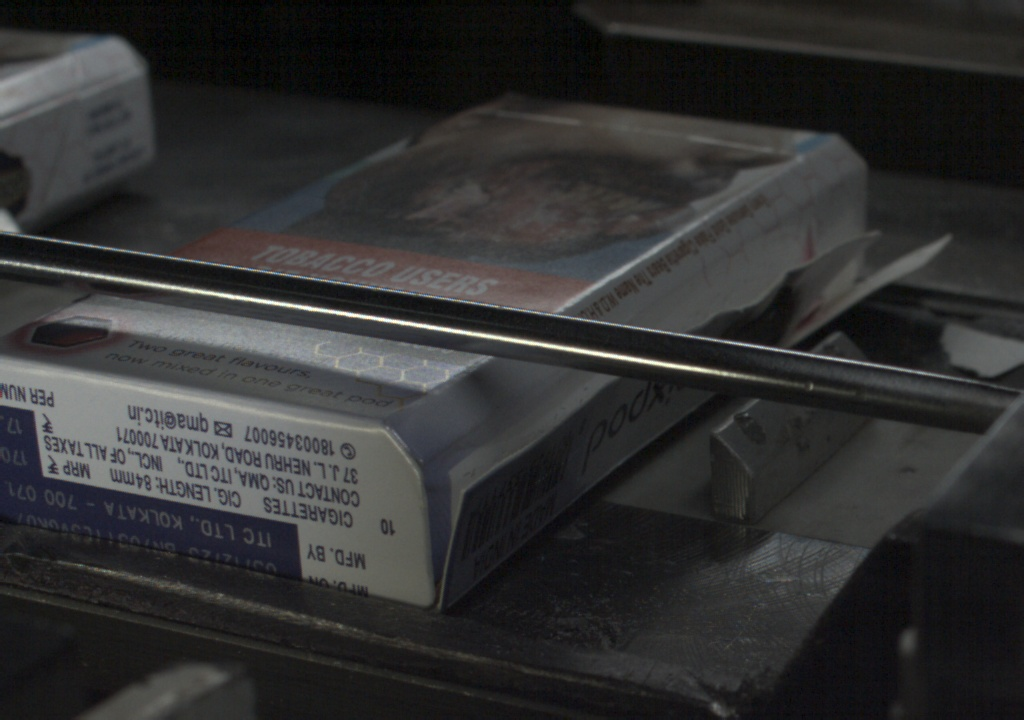g_bottom: (1, 363, 424, 607)
g_label: (1, 475, 301, 582)
ng_lmiter: (430, 426, 511, 573), (729, 247, 811, 305), (656, 280, 744, 329), (520, 383, 601, 436)
ng_miter: (812, 184, 927, 265)
price: (1, 409, 40, 473)
